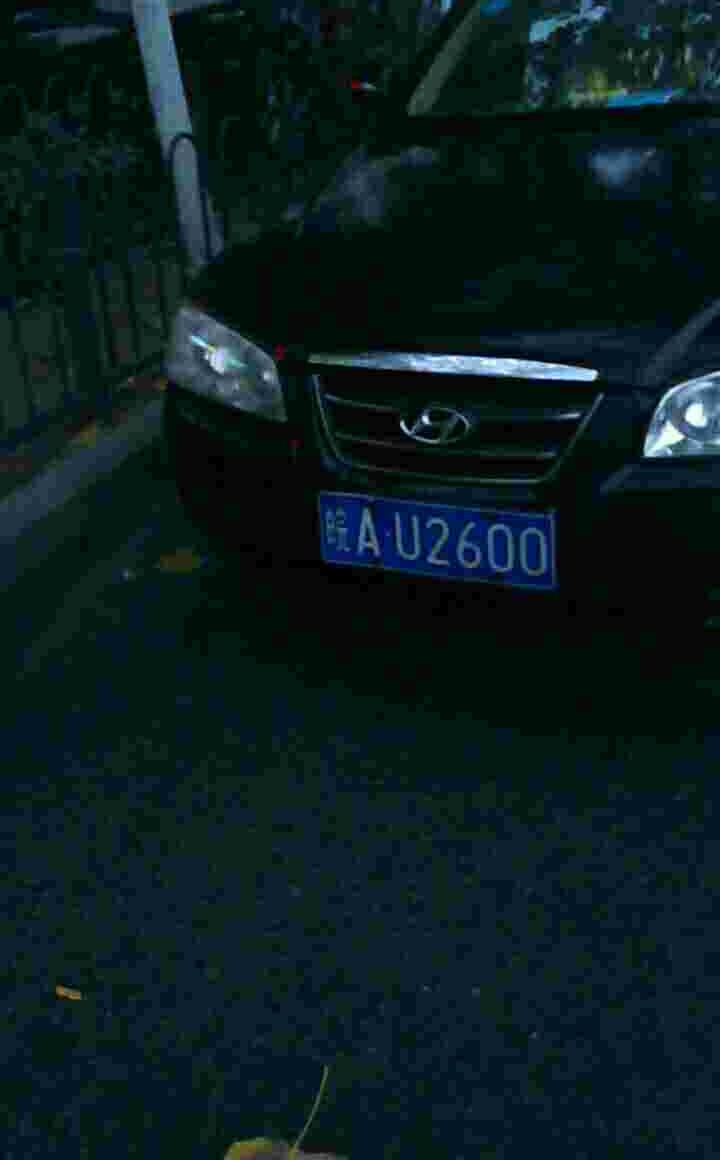license_plate: (315, 499, 562, 571)
